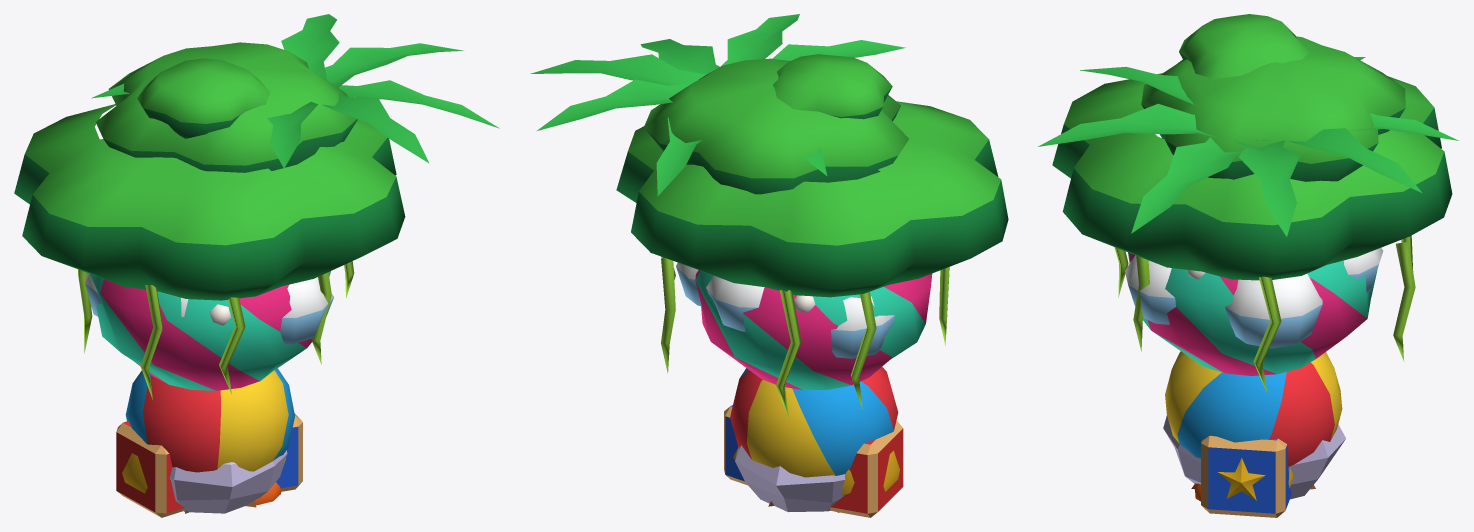
Rendered from worlds-bright.glb.
3 renders of one model, left to right at view 1: azimuth 30°, elevation 25°; view 2: azimuth 150°, elevation 25°; view 3: azimuth 270°, elevation 25°, orthographic. The views are drawn at different scales.
Visible parts, largest first — view 1: jungletree, candy_tree, toyball, palm, toyblock, skyrock, cloudtree; view 2: jungletree, candy_tree, toyball, palm, toyblock, cloudtree, skyrock; view 3: jungletree, palm, toyball, candy_tree, cloudtree, toyblock, skyrock.
Boxes of the visible parts, x1,y1,x2,y2 form: jungletree: (14, 42, 405, 513); candy_tree: (90, 271, 330, 390); toyball: (125, 368, 294, 472); palm: (91, 14, 499, 168); toyblock: (116, 413, 302, 517); skyrock: (169, 450, 287, 513); cloudtree: (85, 273, 333, 344); jungletree: (616, 54, 1008, 512); candy_tree: (695, 270, 932, 389); toyball: (730, 367, 898, 477); palm: (530, 14, 905, 196); toyblock: (724, 405, 903, 517); cloudtree: (676, 262, 894, 358); skyrock: (735, 445, 845, 512); jungletree: (1052, 14, 1452, 489); palm: (1038, 57, 1458, 236); toyball: (1165, 351, 1342, 466); candy_tree: (1128, 252, 1377, 375); cloudtree: (1125, 248, 1383, 348); toyblock: (1201, 435, 1292, 517); skyrock: (1163, 415, 1345, 499).
Size of the model in its own units: 5.5 by 4.98 by 4.25.
